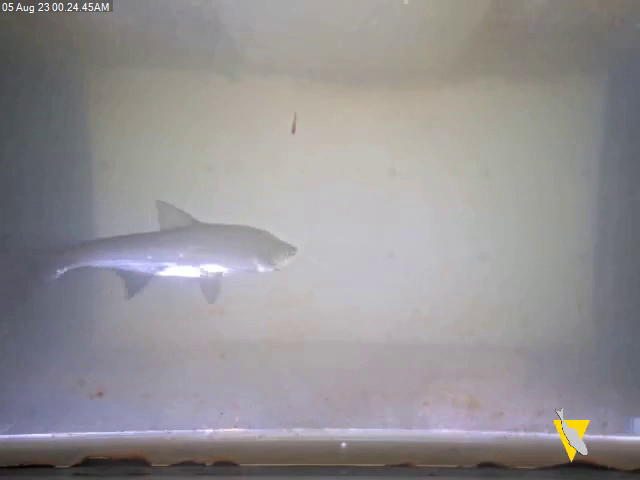\uAC15\uC900\uCE58: (6, 179, 314, 327)
